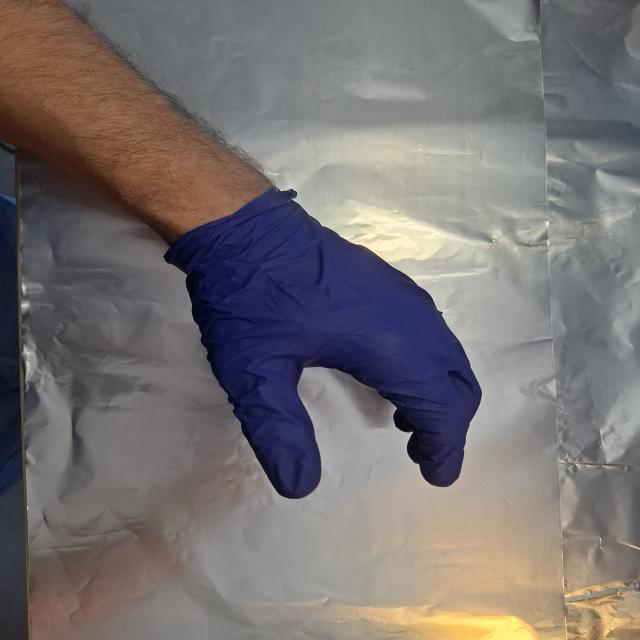glove_on: (182, 194, 489, 501)
